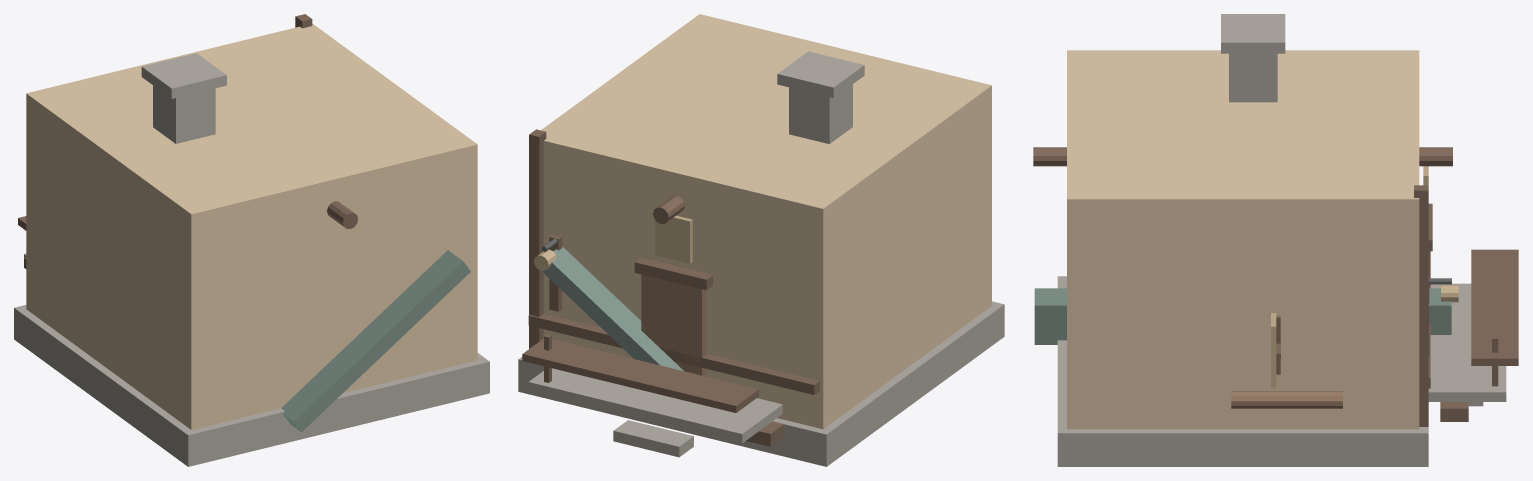
Rendered from cottage_C.glb.
3 renders of one model, left to right at view 1: azimuth 30°, elevation 25°; view 2: azimuth 150°, elevation 25°; view 3: azimuth 270°, elevation 25°, orthographic. The views are drawn at different scales.
Visible parts, largest first — view 1: plastered_walls, stone_foundation, roof_slope, chimney, chimney_cap, ridge_cap; view 2: plastered_walls, stone_foundation, porch_deck, porch_rail, door, roof_slope, front_timber, chimney, corner_timber, chimney_cap, front_step, small_gable_window (+4 smaller); view 3: plastered_walls, stone_foundation, porch_rail, porch_deck, roof_slope, chimney_cap, corner_timber, chimney, firewood, ridge_cap, planter_right.
Boxes of the visible parts, x1,y1,x2,y2 form: plastered_walls: (26, 23, 477, 429); stone_foundation: (14, 305, 489, 466); roof_slope: (281, 250, 470, 432); chimney: (153, 85, 215, 143); chimney_cap: (141, 53, 226, 98); ridge_cap: (327, 201, 358, 228); plastered_walls: (541, 14, 991, 429); stone_foundation: (518, 301, 1004, 466); porch_deck: (528, 368, 782, 443); porch_rail: (522, 338, 758, 412); door: (641, 274, 706, 376); roof_slope: (542, 246, 683, 370); front_timber: (528, 314, 819, 394); chimney: (789, 84, 852, 143); corner_timber: (529, 129, 546, 348); chimney_cap: (777, 51, 864, 97); front_step: (613, 420, 693, 457); small_gable_window: (655, 215, 692, 263); plastered_walls: (1067, 50, 1419, 429); stone_foundation: (1057, 276, 1428, 466); porch_rail: (1471, 249, 1518, 365); porch_deck: (1428, 283, 1506, 401); roof_slope: (1034, 288, 1451, 344); chimney_cap: (1221, 14, 1285, 53); corner_timber: (1414, 185, 1428, 426); chimney: (1229, 53, 1277, 102); firewood: (1231, 391, 1342, 408); ridge_cap: (1033, 147, 1452, 166); planter_right: (1440, 402, 1468, 421).
Size of the model in its own units: 5.83 by 5.35 by 7.17.
